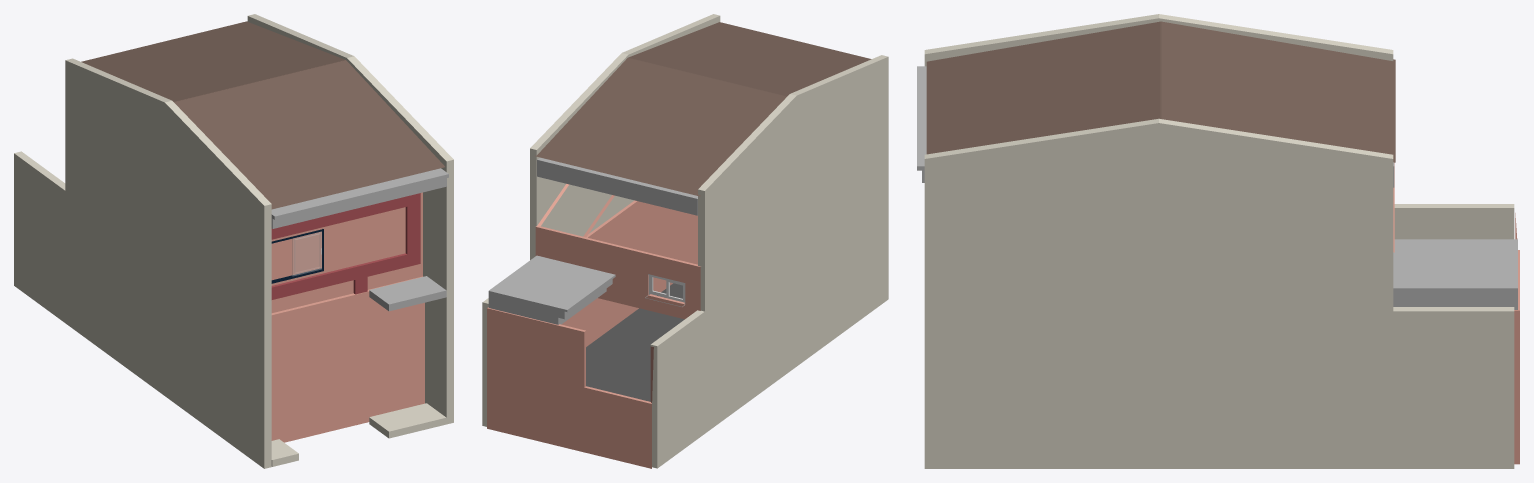
Rendered from modelH_low.glb.
The picture shows the model from 3 angles, left to right: view 1: azimuth 30°, elevation 25°; view 2: azimuth 150°, elevation 25°; view 3: azimuth 270°, elevation 25°; orthographic projection. The views are drawn at different scales.
Visible parts, largest first — view 1: Cube.003, Plane.001, Wall.001, wall.003, Cube.007, roof, Cube.001, Cube.006, Window.R.011, Cube.002; view 2: Cube.003, Plane.001, Wall.001, wall.003, Roof.001, Floor.001, roof; view 3: Cube.003, Plane.001, Roof.001, roof, Wall.001.
Boxes of the visible parts, left/top/right/bottom form: Cube.003: left=14, top=14, right=453, bottom=468; Plane.001: left=81, top=21, right=444, bottom=209; Wall.001: left=271, top=276, right=424, bottom=442; wall.003: left=271, top=192, right=422, bottom=312; Cube.007: left=271, top=193, right=420, bottom=299; roof: left=271, top=168, right=448, bottom=228; Cube.001: left=369, top=403, right=446, bottom=438; Cube.006: left=369, top=276, right=446, bottom=311; Window.R.011: left=292, top=232, right=321, bottom=276; Cube.002: left=271, top=439, right=298, bottom=466; Cube.003: left=482, top=14, right=888, bottom=468; Plane.001: left=535, top=22, right=871, bottom=196; Wall.001: left=487, top=200, right=697, bottom=468; wall.003: left=535, top=184, right=700, bottom=319; Roof.001: left=488, top=255, right=615, bottom=324; Floor.001: left=586, top=283, right=684, bottom=401; roof: left=537, top=157, right=697, bottom=215; Cube.003: left=924, top=14, right=1514, bottom=468; Plane.001: left=926, top=21, right=1395, bottom=162; Roof.001: left=1393, top=239, right=1517, bottom=309; roof: left=917, top=66, right=1394, bottom=187; Wall.001: left=1514, top=213, right=1519, bottom=464.
Size of the model in its own units: 3.86 by 5.71 by 9.02.
